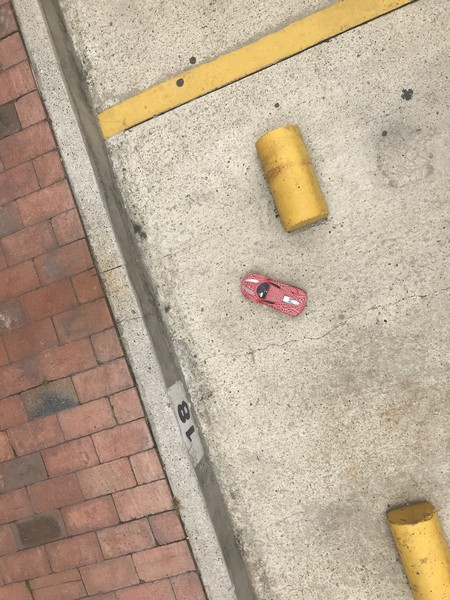RC: (240, 272, 311, 319)
